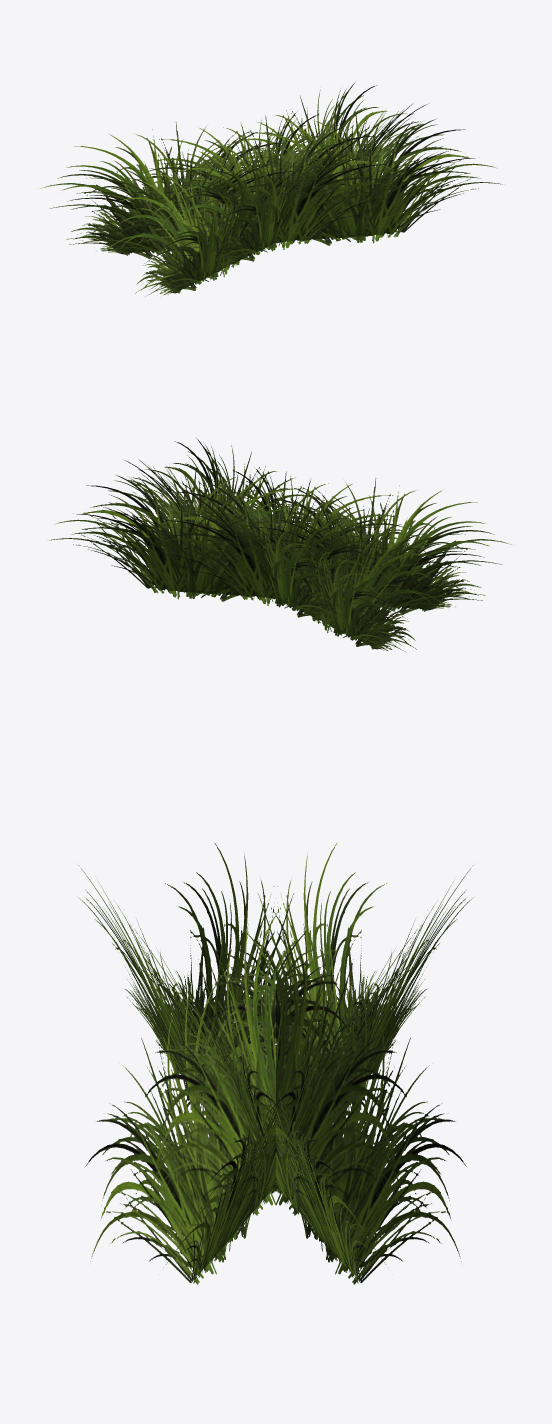
The model's file is grass.FBX.
3 views of the same model, one above another, from view 1: azimuth 30°, elevation 25°; view 2: azimuth 150°, elevation 25°; view 3: azimuth 270°, elevation 25° (orthographic). The views are drawn at different scales.
Visible parts, largest first — view 1: grass; view 2: grass; view 3: grass.
Part boxes in pixels (bbox=[...]): grass: bbox=[40, 82, 502, 296]; grass: bbox=[49, 438, 511, 652]; grass: bbox=[78, 843, 473, 1284].
Size of the model in its own units: 121 by 37.59 by 64.18.
